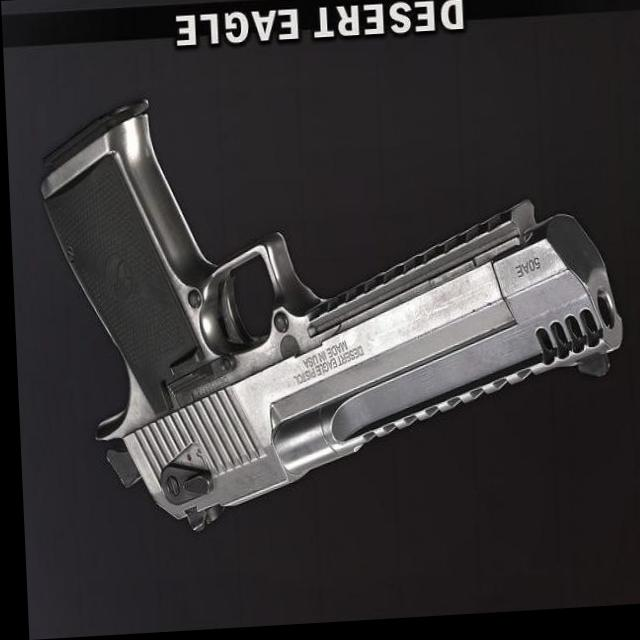handgun: (23, 84, 620, 547)
